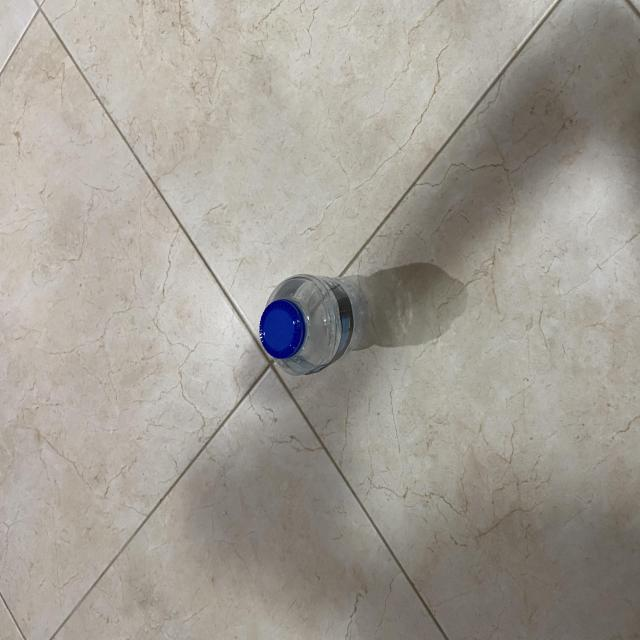plastic: (255, 273, 354, 380)
